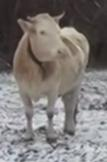cow: (14, 11, 89, 144)
